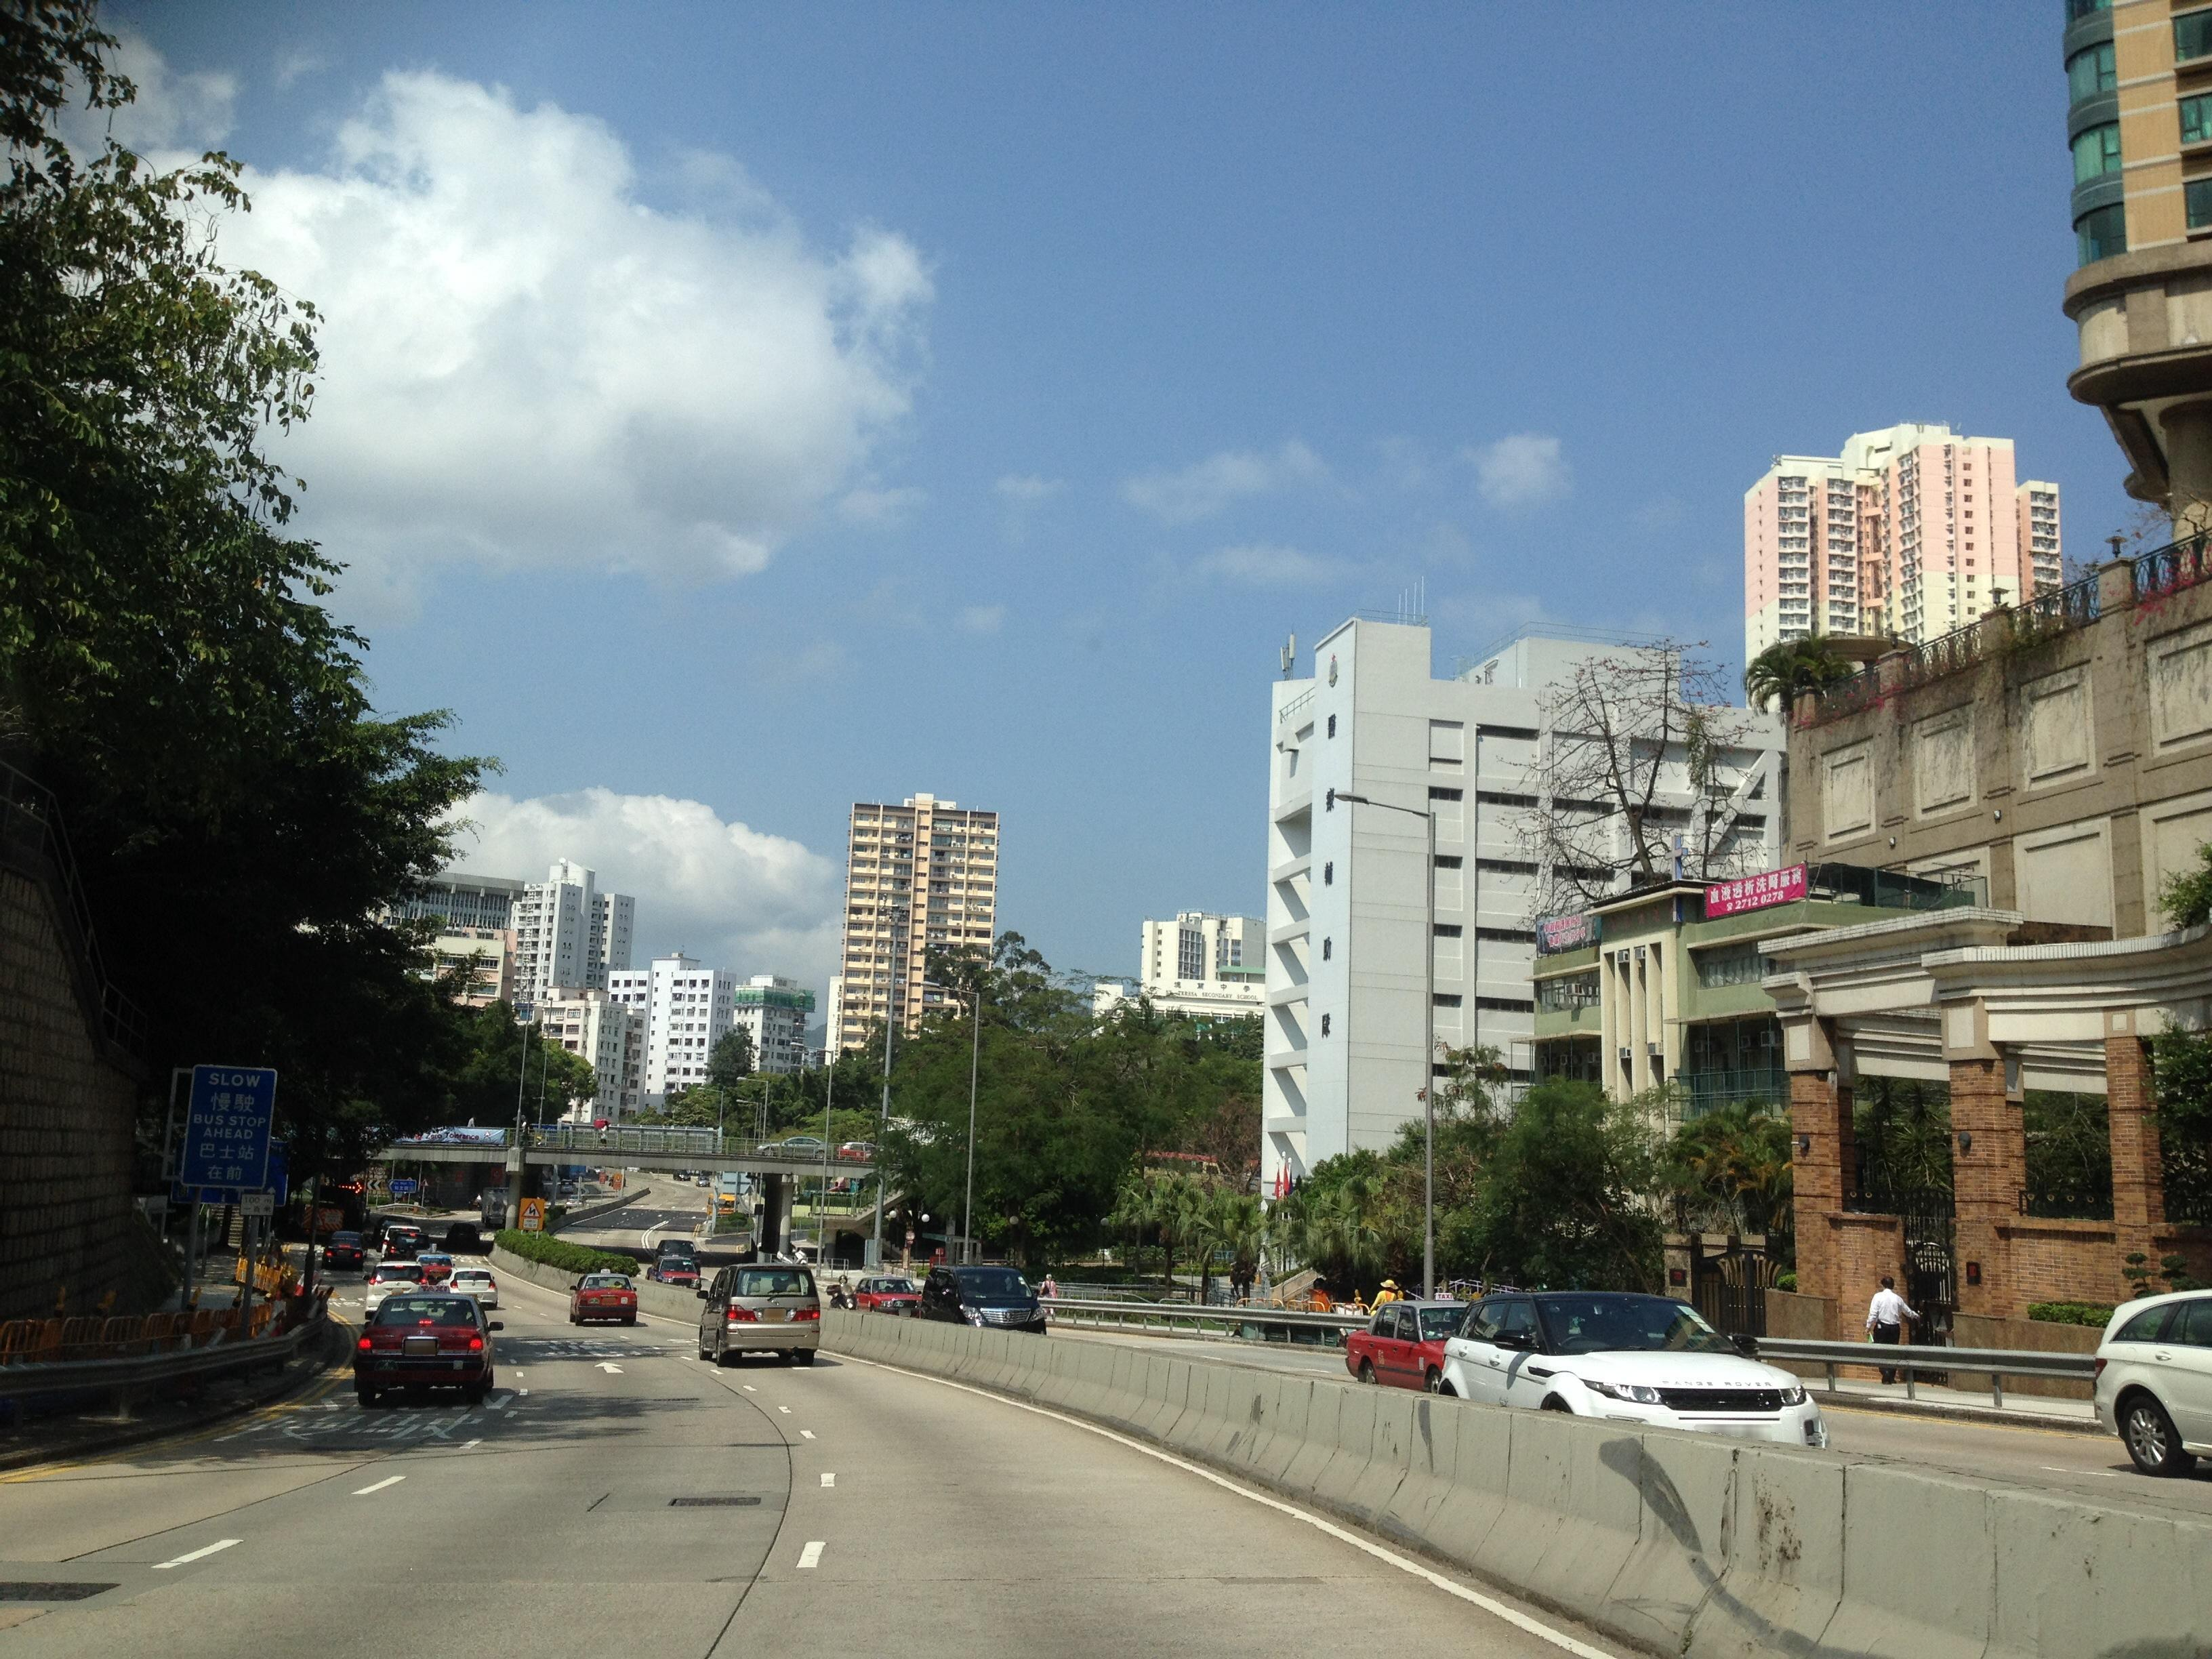vinyl banner: (1702, 864, 1836, 917), (1534, 901, 1622, 951)
